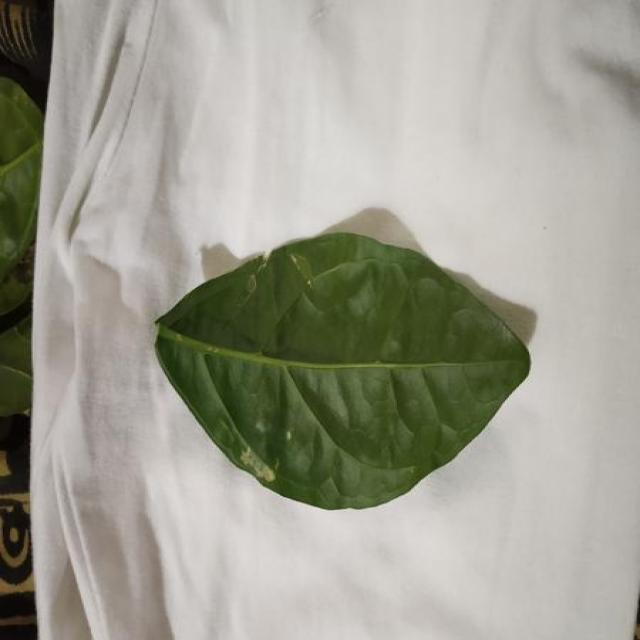Jasmine: (155, 232, 530, 509)
